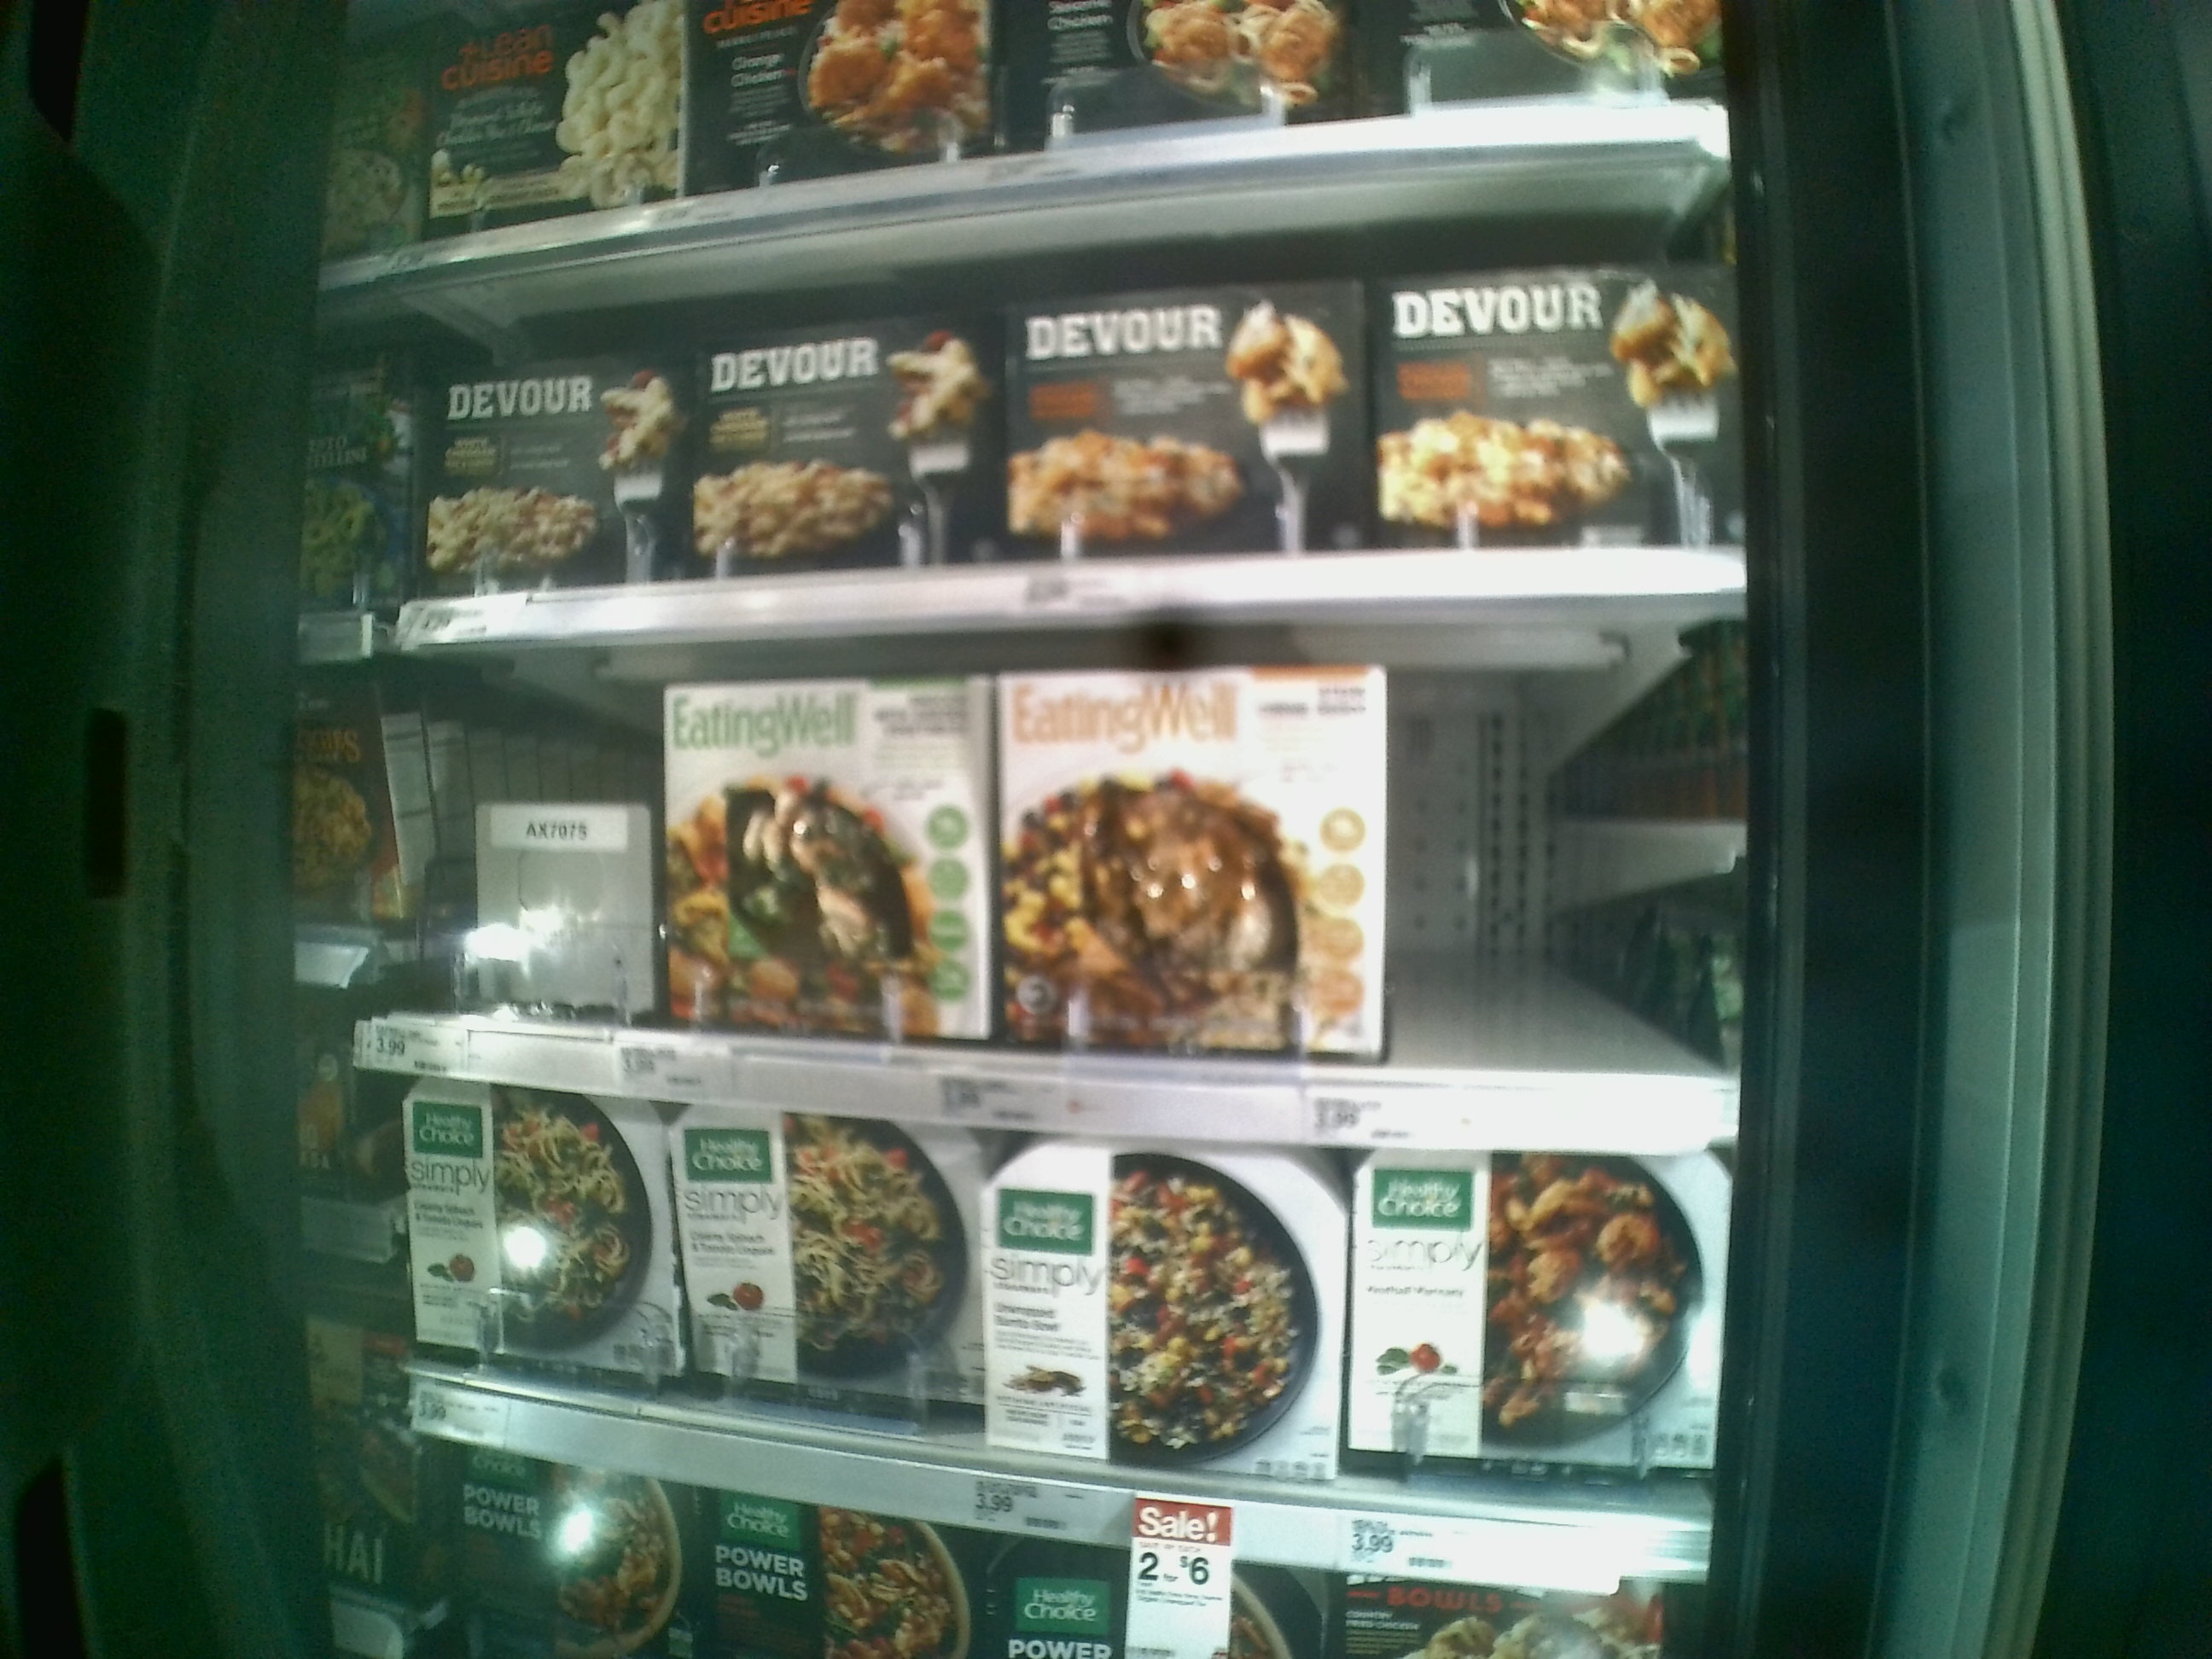pizza: (1000, 676, 1385, 1056), (1341, 1154, 1717, 1478), (974, 1148, 1341, 1476), (653, 688, 981, 1044), (1371, 274, 1728, 538), (395, 1084, 697, 1382), (672, 1129, 979, 1413), (1000, 296, 1359, 537), (691, 331, 993, 556), (415, 5, 685, 228), (425, 364, 683, 577)
